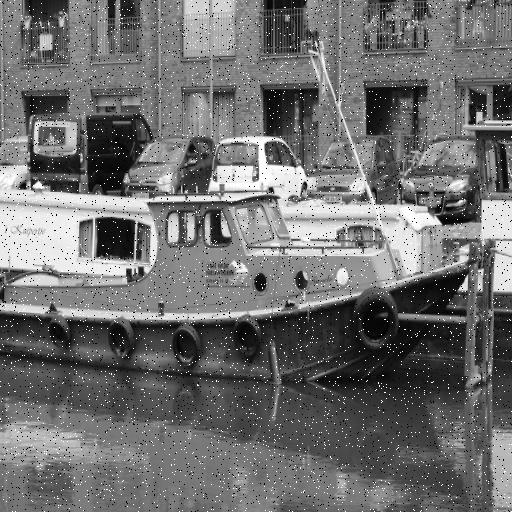tugboat: (1, 175, 501, 395)
